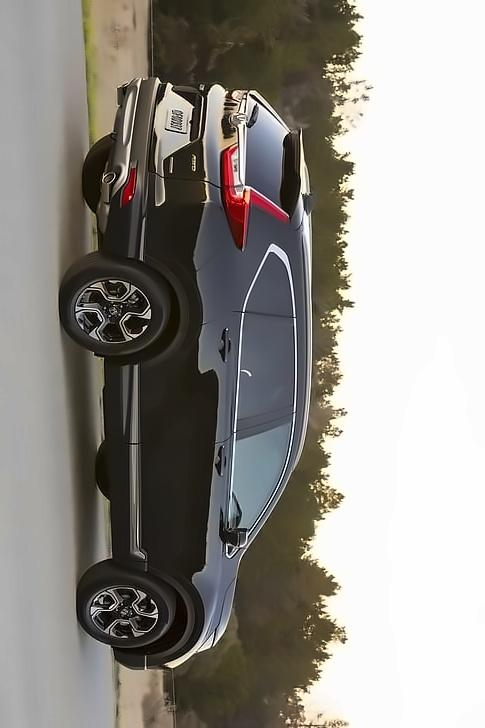Car boot: (145, 73, 317, 234)
Car hood: (207, 566, 241, 654)
Driver-s door - -F-R-: (111, 405, 316, 569)
Fender - -F-R-: (99, 541, 241, 671)
Fender - -R-R-: (153, 224, 313, 329)
Front bumper: (106, 637, 169, 674)
Passenger-s door - -R-R-: (97, 301, 331, 434)
Rear bumper: (87, 75, 173, 259)
Rear light - -R-: (221, 143, 291, 256)
Side bumper - -R-: (100, 347, 166, 571)
Side mirror - -R-: (221, 509, 252, 556)
